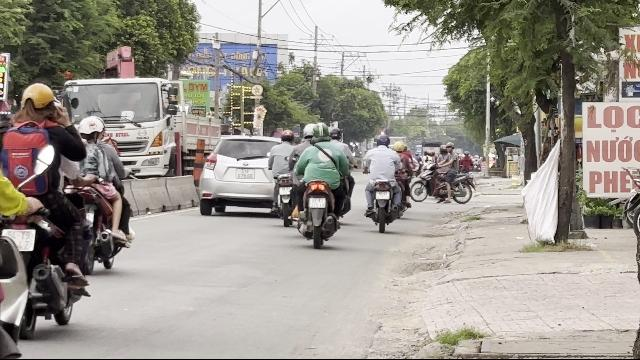helmet: (19, 82, 57, 122), (77, 115, 105, 142), (312, 122, 330, 142)
licenseplate: (308, 198, 326, 208)
motorcyclist: (0, 77, 94, 338), (70, 112, 134, 272), (289, 121, 353, 247)
